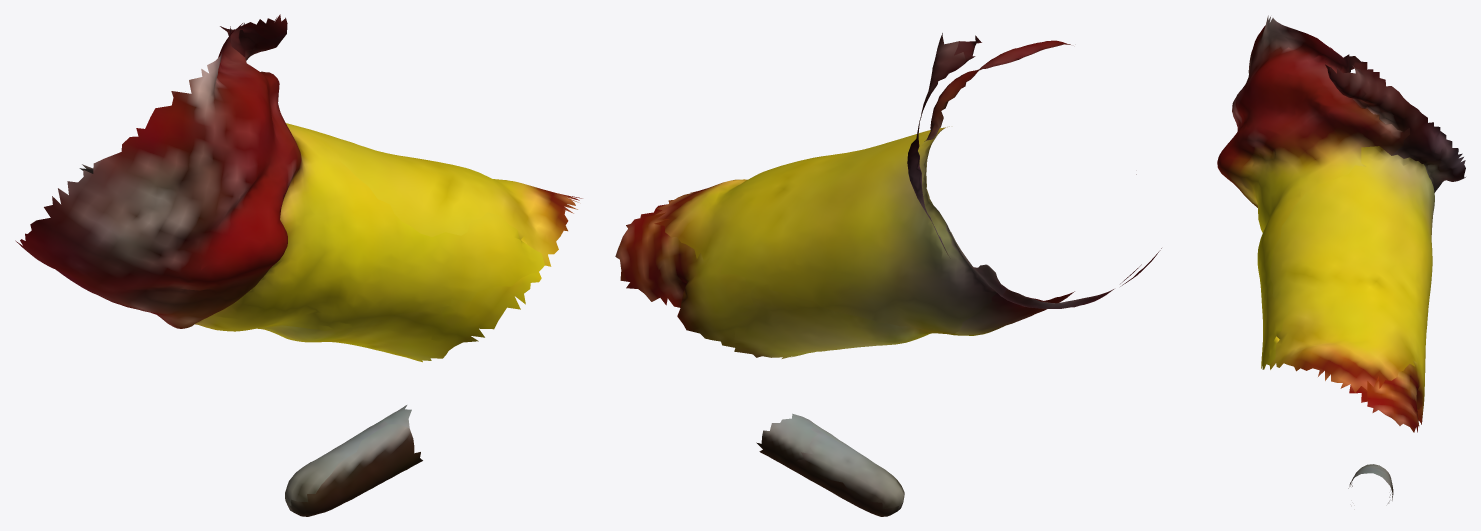
The model's file is taiko_antebrazo_der.glb.
3 views of the same model, side by side, from view 1: azimuth 30°, elevation 25°; view 2: azimuth 150°, elevation 25°; view 3: azimuth 270°, elevation 25° (orthographic). The views are drawn at different scales.
Visible parts, largest first — view 1: antebrazo_der; view 2: antebrazo_der; view 3: antebrazo_der.
Part boxes in pixels (<box>): antebrazo_der: <box>15,14,582,516</box>; antebrazo_der: <box>615,33,1161,516</box>; antebrazo_der: <box>1217,15,1465,503</box>.
Bounding box in the file's own units: 0.1783 × 0.1576 × 0.0849.
Materials: 1 (1 with a texture image).
